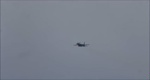maybay_muctieu: (73, 40, 90, 49)
